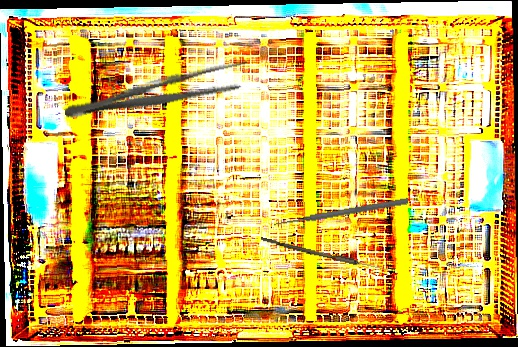Dressing Forceps: (61, 56, 254, 130)
Pusher: (273, 196, 409, 229)
Surgical Spoon: (260, 237, 391, 273)
